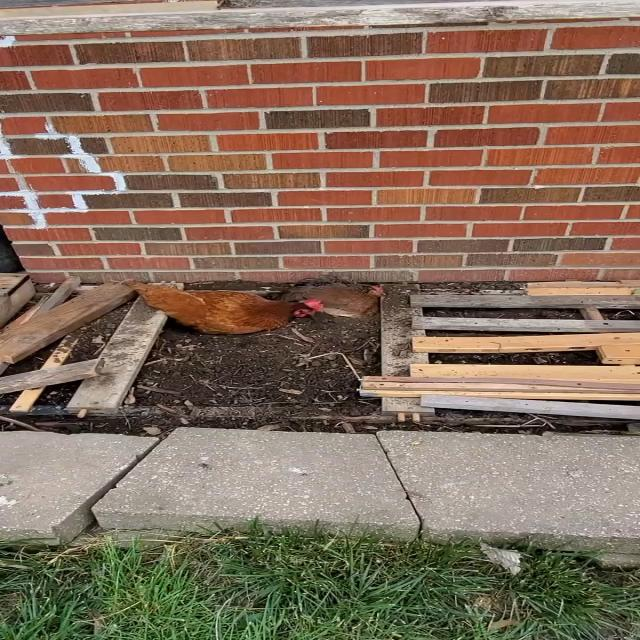stand bath: (123, 277, 324, 343), (288, 280, 392, 318)
